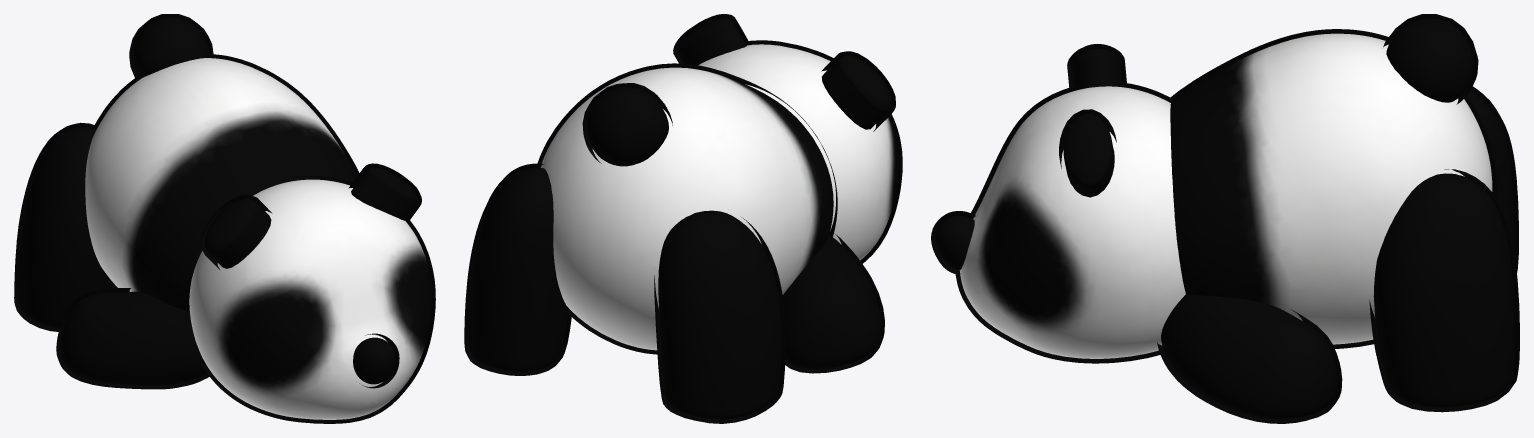
File: lazy_panda.glb
3 renders of one model, left to right at view 1: azimuth 30°, elevation 25°; view 2: azimuth 150°, elevation 25°; view 3: azimuth 270°, elevation 25°, orthographic. The views are drawn at different scales.
Visible parts, largest first — view 1: panda001_Group7725, panda001_Group7726; view 2: panda001_Group7725, panda001_Group7726; view 3: panda001_Group7725, panda001_Group7726.
Part boxes in pixels (<box>): panda001_Group7725: <box>18,17,431,419</box>; panda001_Group7726: <box>14,14,435,423</box>; panda001_Group7725: <box>468,18,898,419</box>; panda001_Group7726: <box>464,14,902,423</box>; panda001_Group7725: <box>935,18,1515,419</box>; panda001_Group7726: <box>931,14,1519,423</box>.
Size of the model in its own units: 1.01 by 0.7804 by 1.28.
Materials: 2 (1 with a texture image).
